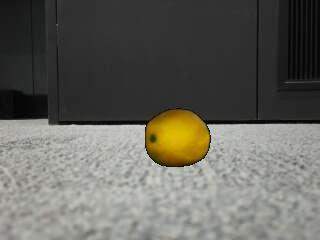lemon: (146, 109, 210, 166)
